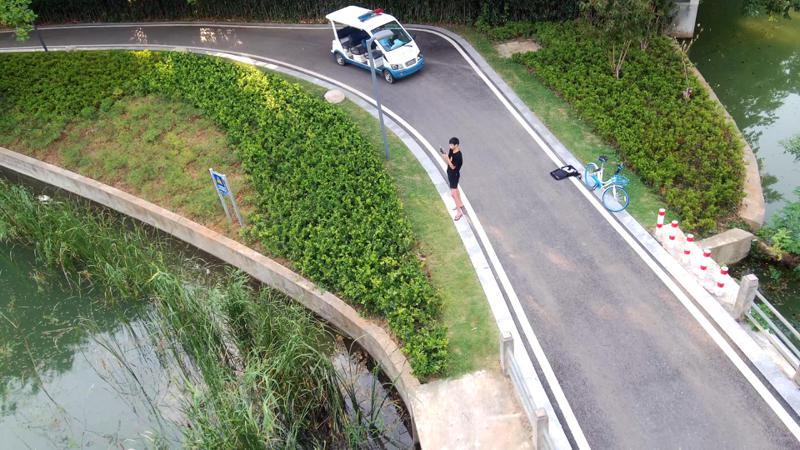passerby: (439, 136, 465, 222)
